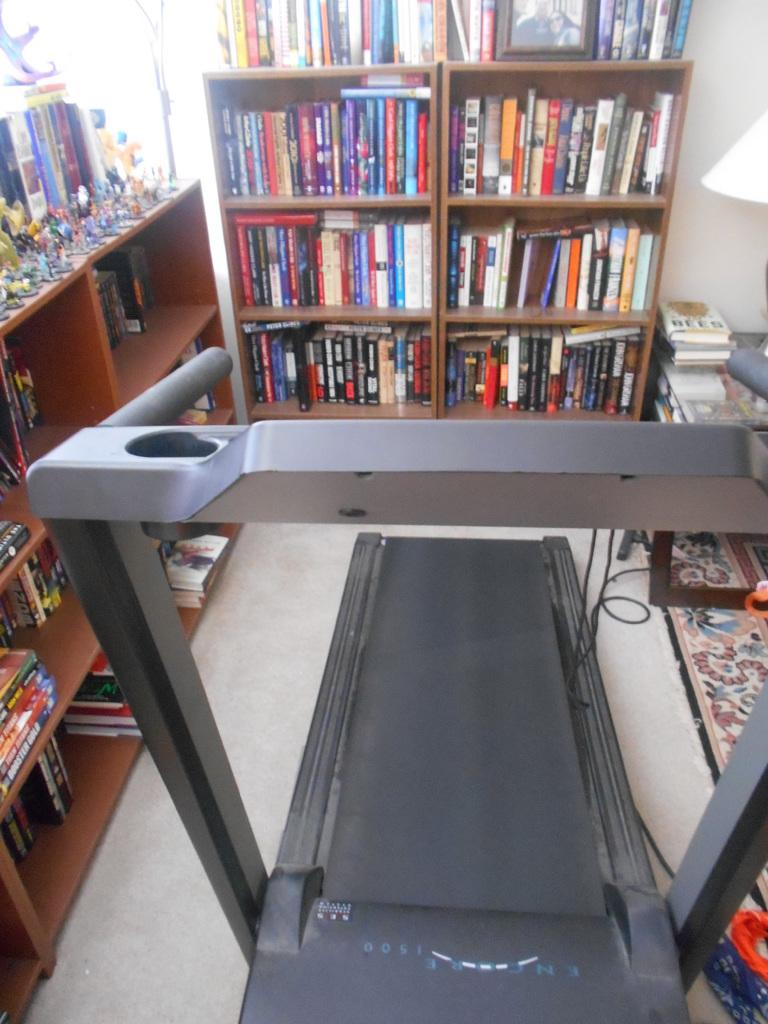Book: (175, 22, 698, 433), (0, 93, 119, 244), (659, 295, 742, 426), (0, 645, 56, 801), (63, 662, 145, 760), (2, 738, 56, 869), (0, 533, 70, 624), (154, 535, 233, 612), (0, 514, 35, 568)
